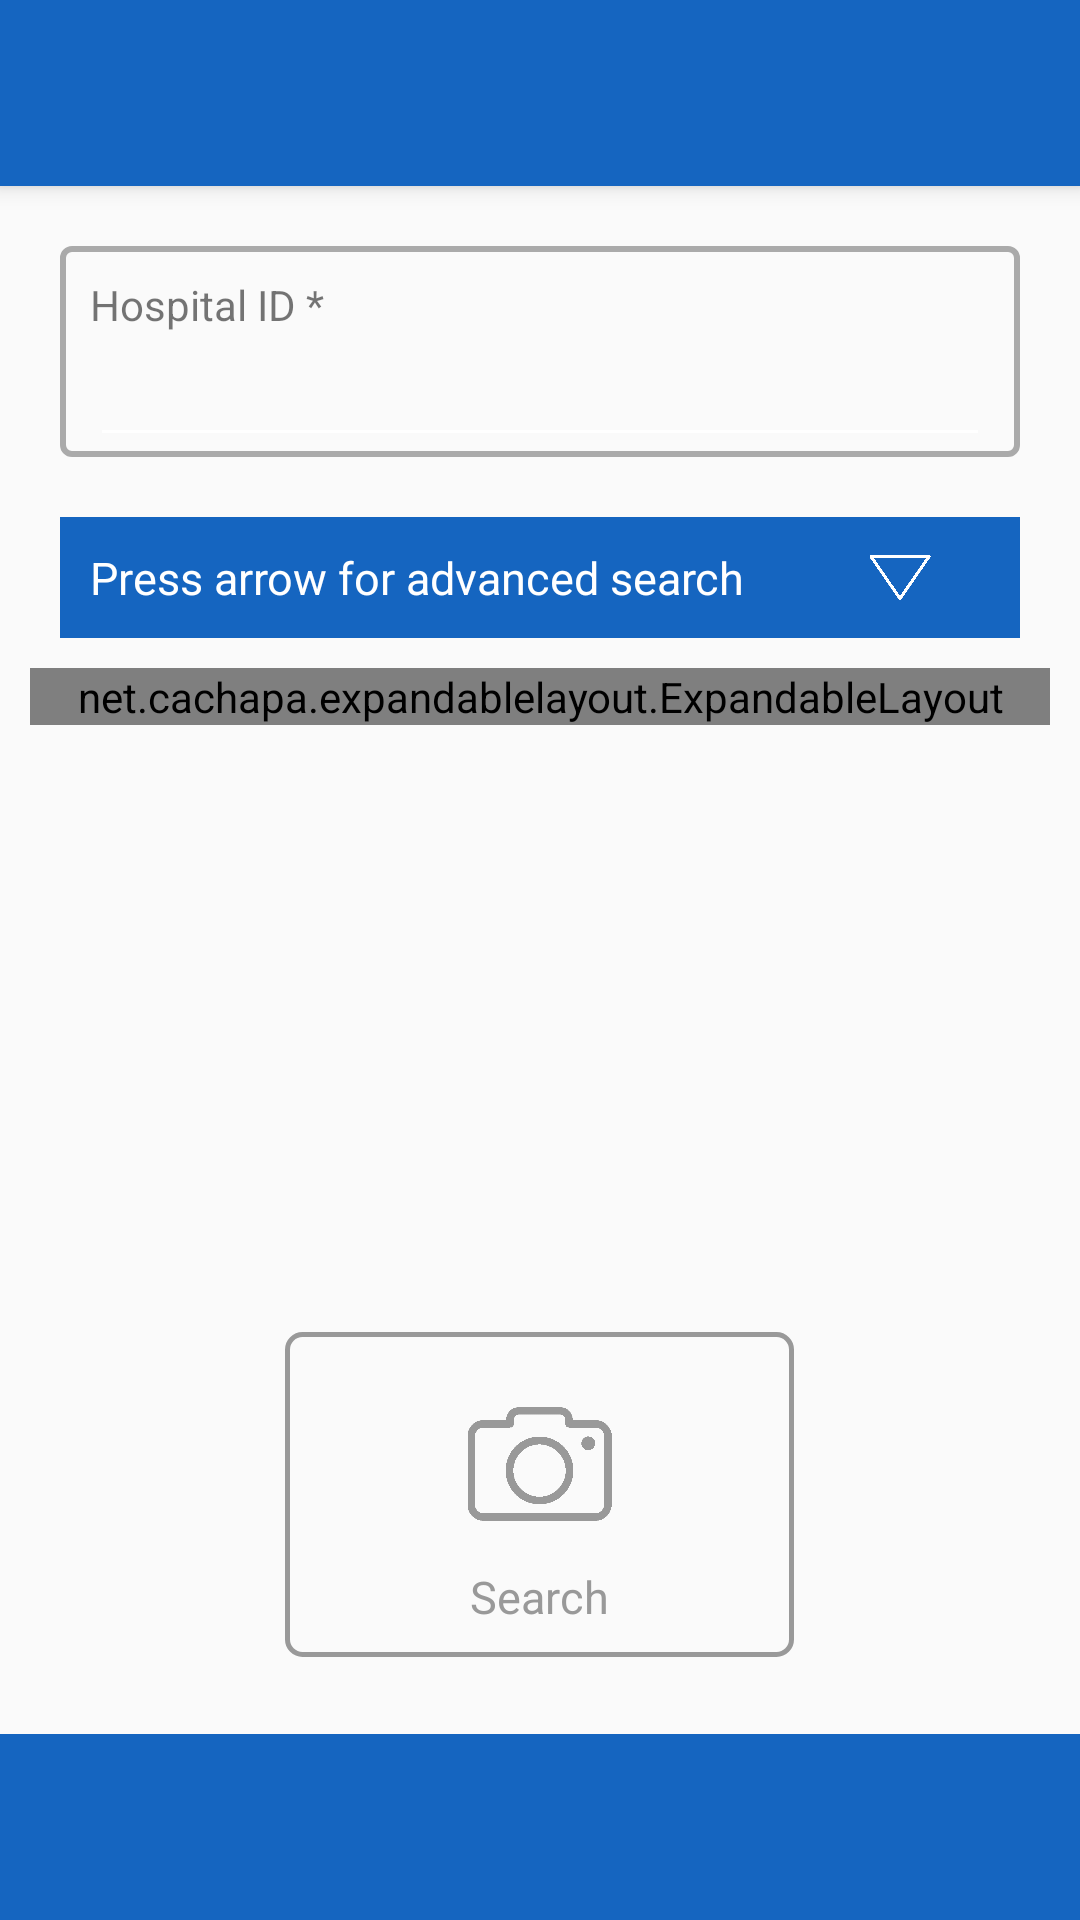

Where to tap for icons on this 1080×1920 app screen, as (x=x, y=y):
camera: (x=540, y=1464)
down: (x=900, y=577)
